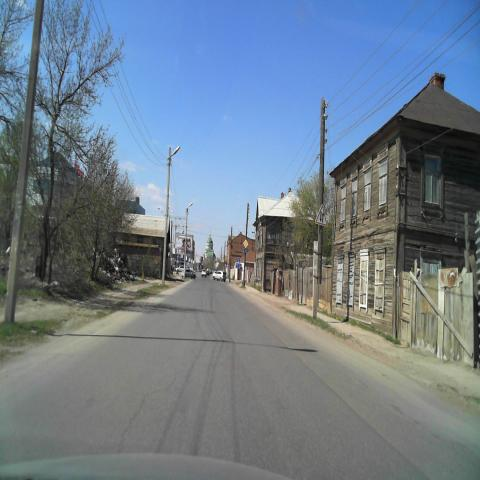1_21: (315, 204, 328, 228)
